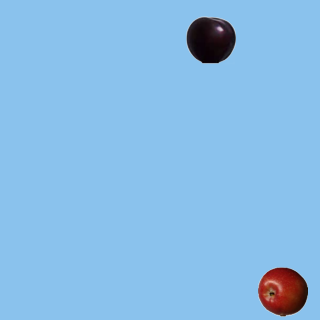Apple Braeburn: (257, 266, 307, 316)
Cherry Wax Black: (185, 14, 235, 64)
